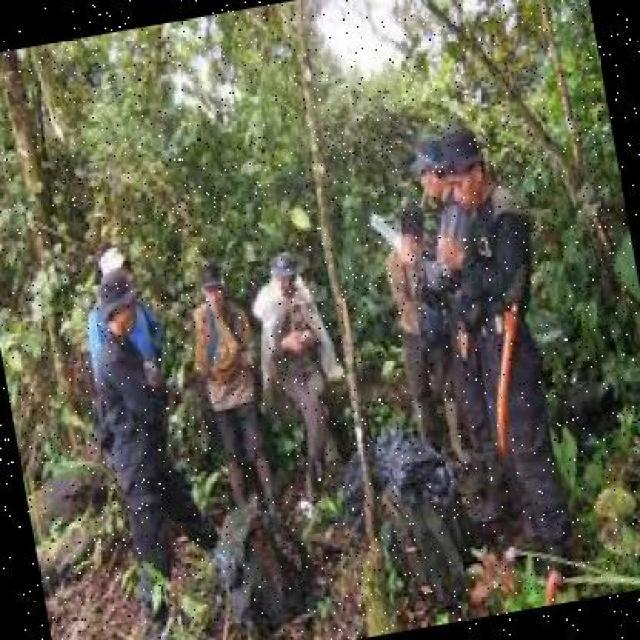ranger: (426, 81, 564, 522), (69, 215, 178, 570)
